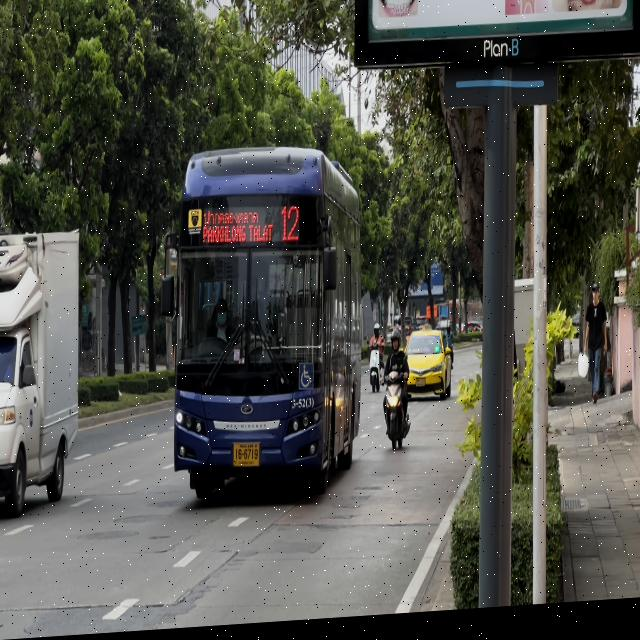Bus-Line-Number: (278, 204, 303, 252)
Destination-Sign-Normal: (200, 201, 275, 254)
TSB-Bus: (172, 145, 360, 508)
